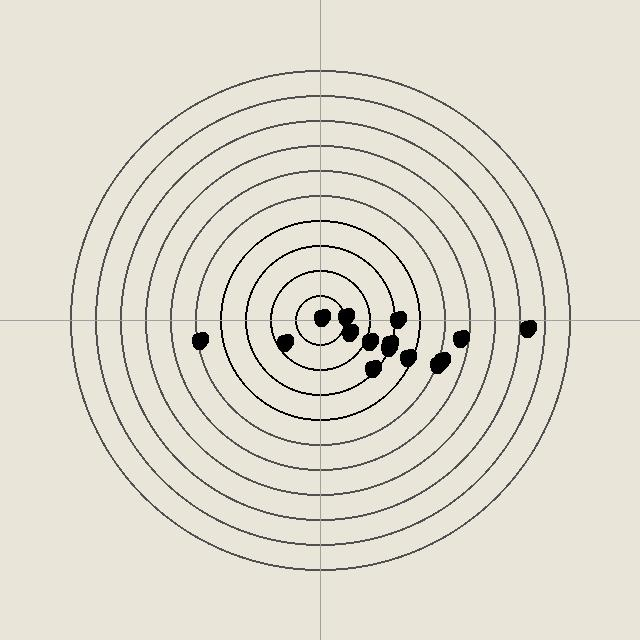horizontal_scatter: (311, 307, 331, 327), (431, 350, 451, 370), (397, 347, 417, 367), (427, 354, 447, 374), (189, 330, 209, 350), (339, 322, 359, 342), (378, 337, 398, 357), (517, 318, 537, 338), (379, 333, 399, 353), (387, 309, 407, 329), (359, 331, 379, 351), (335, 306, 355, 326), (274, 332, 294, 352), (362, 358, 382, 378), (450, 328, 470, 348)
